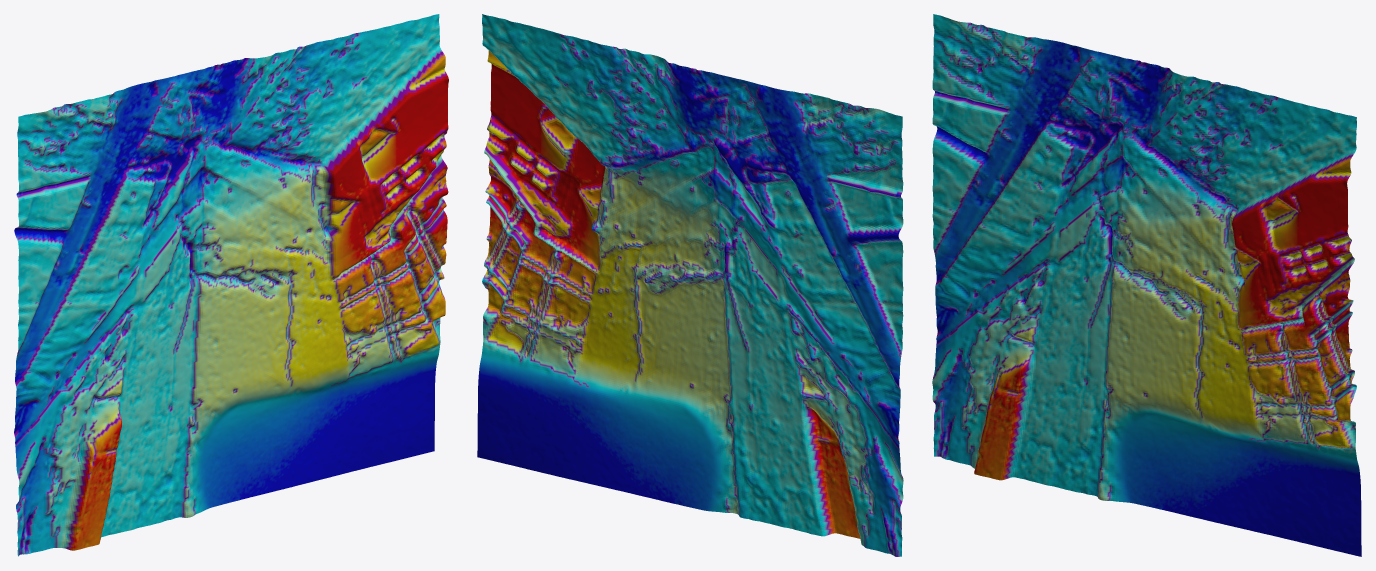
3 views of the same model, side by side, from view 1: azimuth 30°, elevation 25°; view 2: azimuth 150°, elevation 25°; view 3: azimuth 330°, elevation 25° (orthographic).
Parts seen in each view (by area): view 1: world; view 2: world; view 3: world.
Boxes of the visible parts, x1=… form: world: x1=14, y1=14, x2=448, y2=556; world: x1=477, y1=14, x2=903, y2=556; world: x1=932, y1=14, x2=1361, y2=556.
Bounding box in the file's own units: 299 × 299 × 18.
